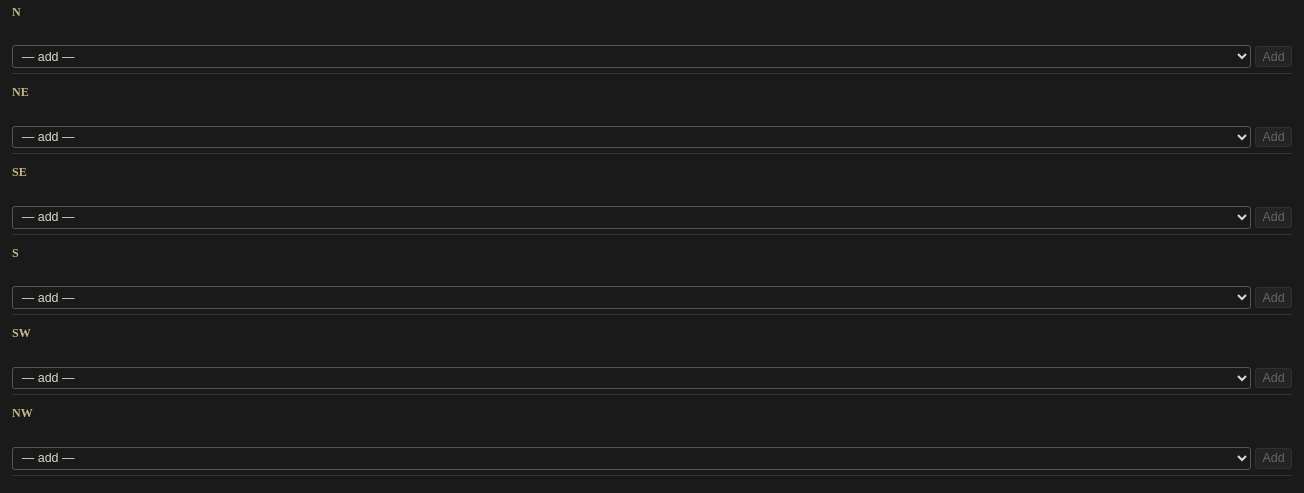
EdgeEditPanel › selecting a type enables Add button
Select "road" in the 1st dropdown with class "type-select" at (632, 57), box x1=12 y1=45 x2=1251 y2=68
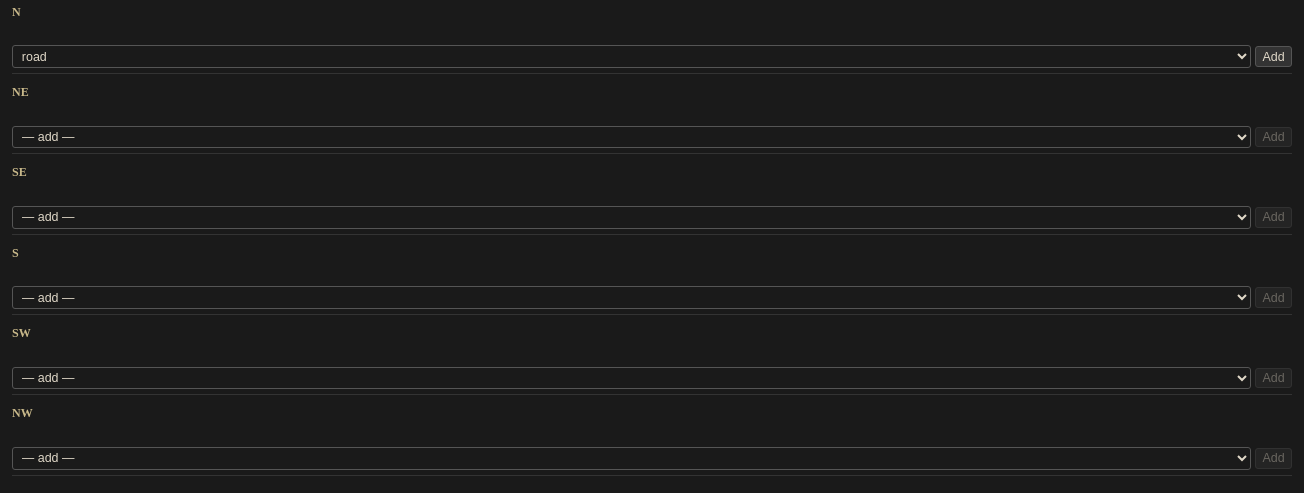
Expected: the 1st button with class "add-btn" is enabled, x1=1255 y1=46 x2=1292 y2=67
